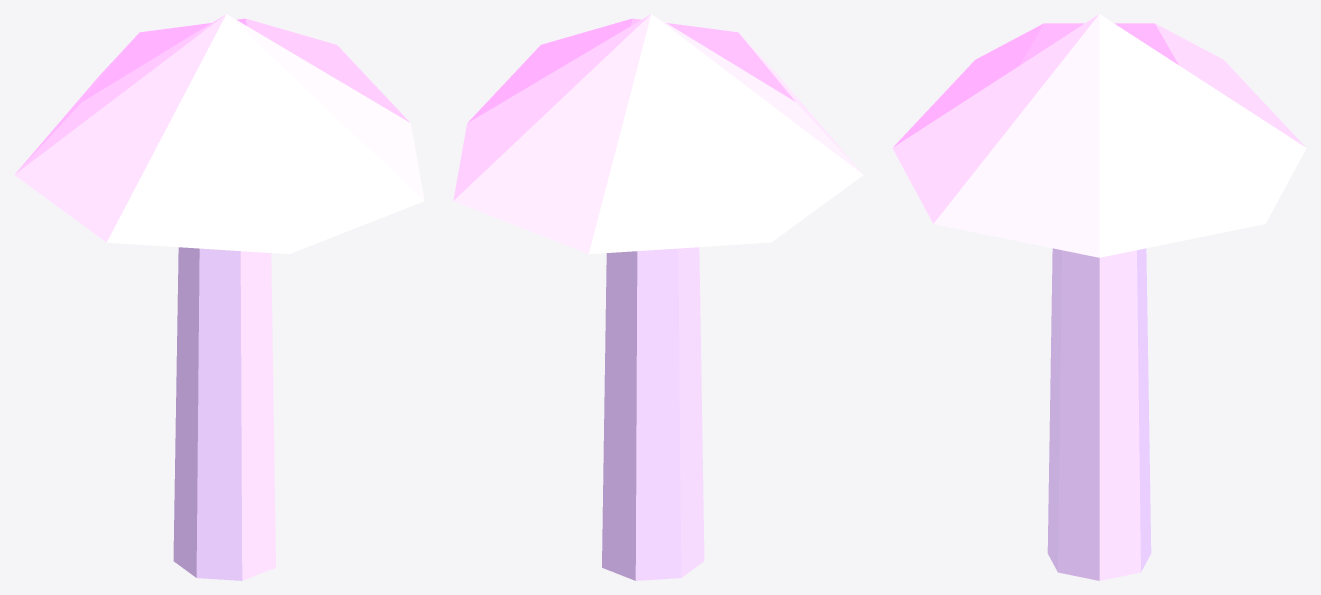
Rendered from mushroom_single_alive.glb.
3 views of the same model, side by side, from view 1: azimuth 30°, elevation 25°; view 2: azimuth 150°, elevation 25°; view 3: azimuth 270°, elevation 25° (orthographic).
Visible parts, largest first — view 1: mushroom_body; view 2: mushroom_body; view 3: mushroom_body.
Part boxes in pixels (x1,y1,x2,y2): mushroom_body: (14, 14, 424, 580); mushroom_body: (453, 14, 863, 580); mushroom_body: (892, 14, 1306, 580).
Bounding box in the file's own units: 0.1346 × 0.2002 × 0.138.
